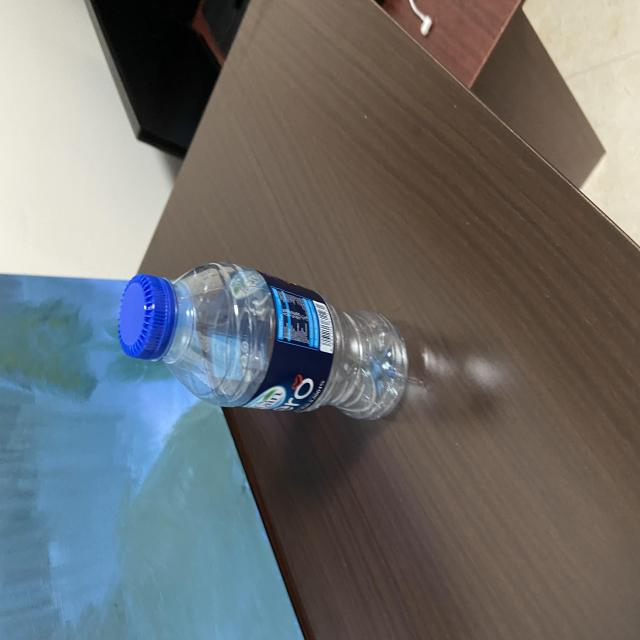bottle: (100, 257, 431, 442)
